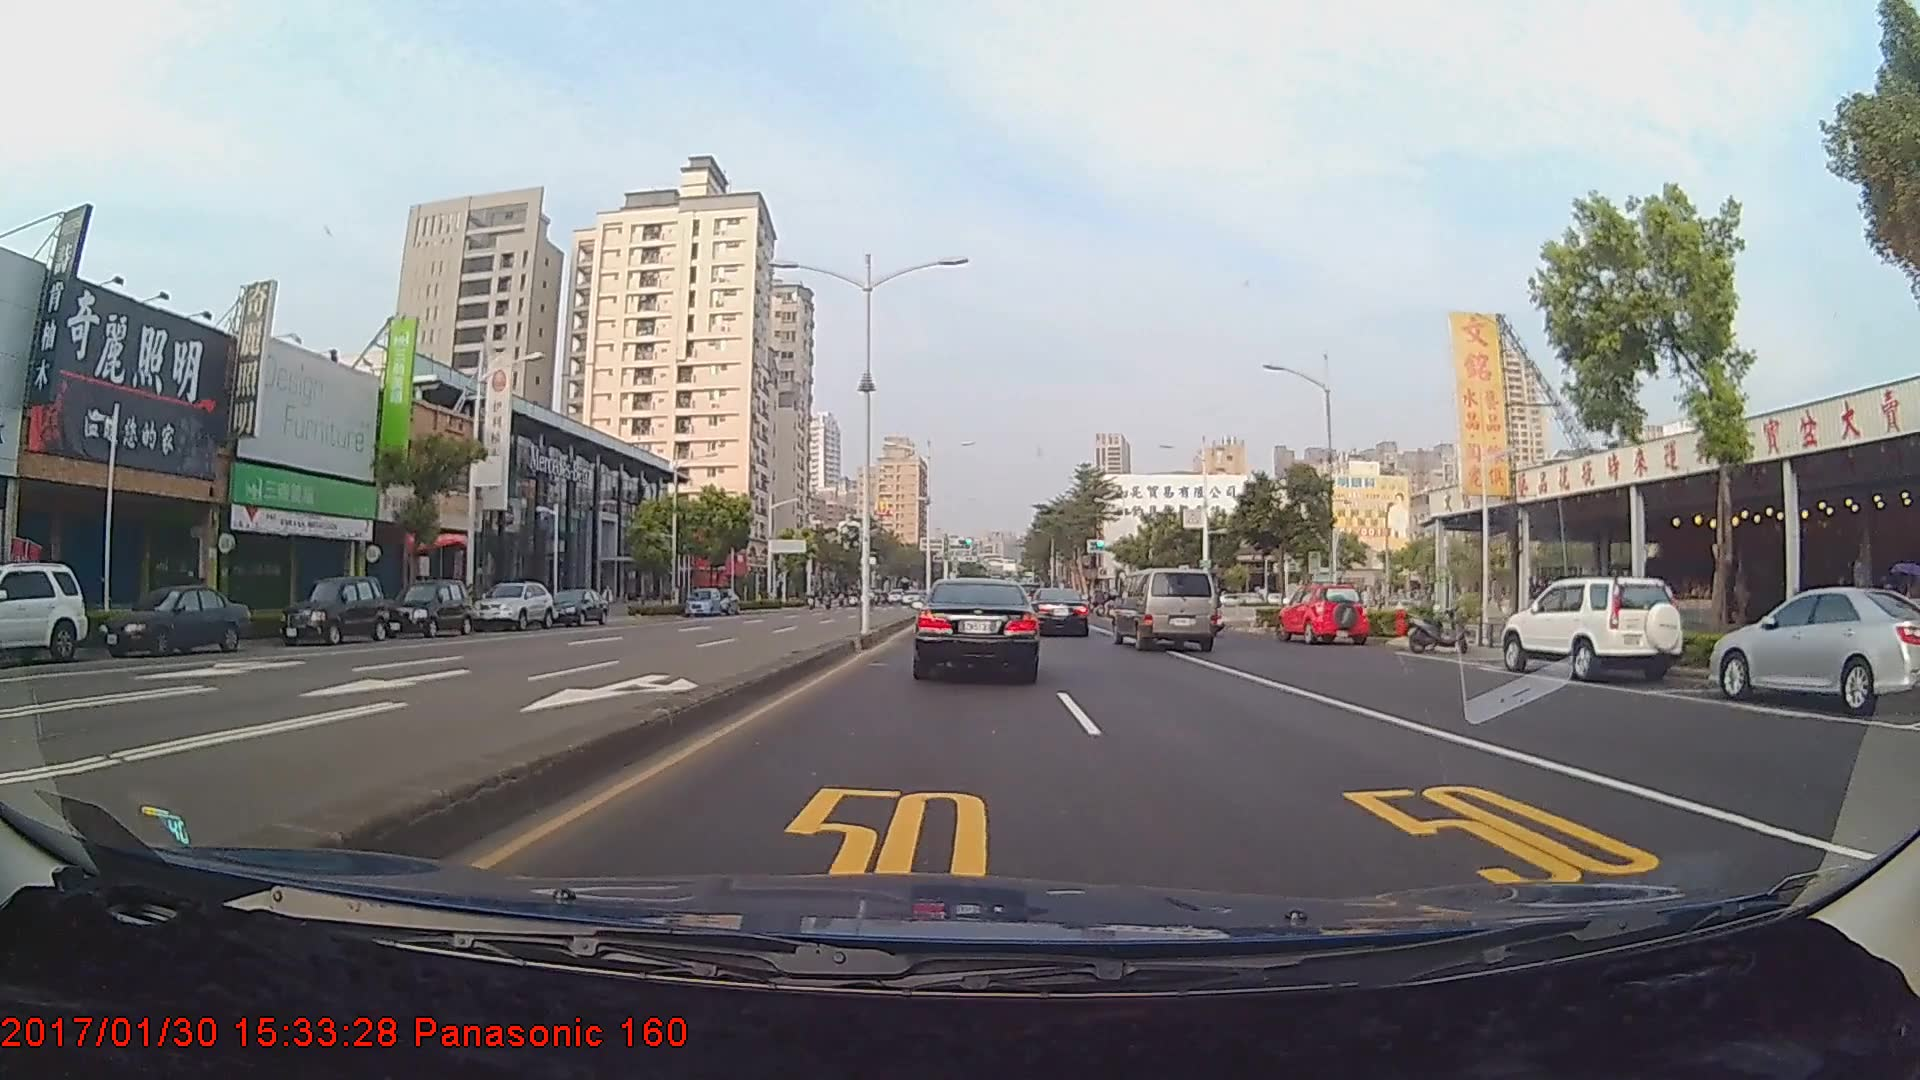vehicle: (1709, 584, 1915, 713), (1505, 574, 1680, 679), (913, 574, 1039, 682), (94, 585, 255, 658), (0, 560, 87, 667), (1110, 566, 1218, 651), (276, 576, 389, 646), (381, 579, 472, 640), (1279, 583, 1366, 646), (467, 580, 556, 633), (1030, 587, 1089, 637), (545, 589, 611, 628), (682, 585, 723, 615)
